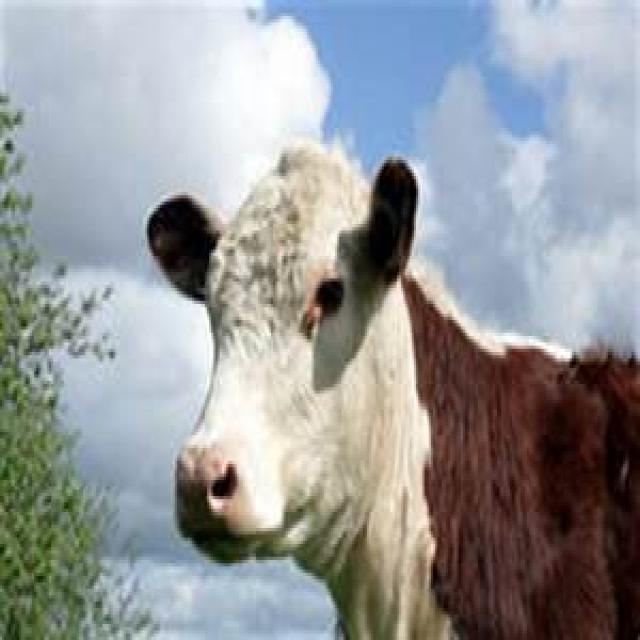cow: (145, 141, 640, 640)
